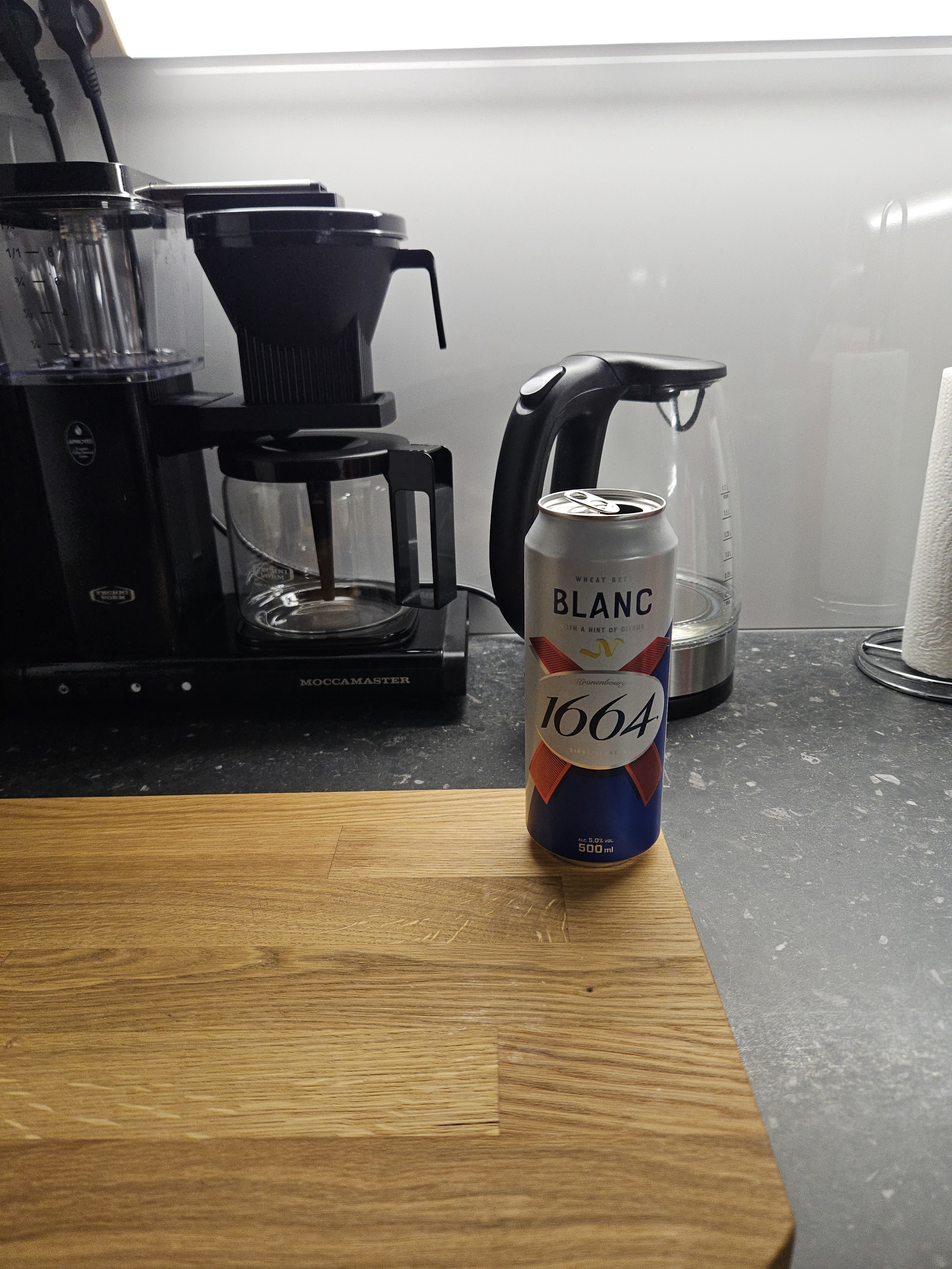Pantburk: (520, 486, 678, 877)
